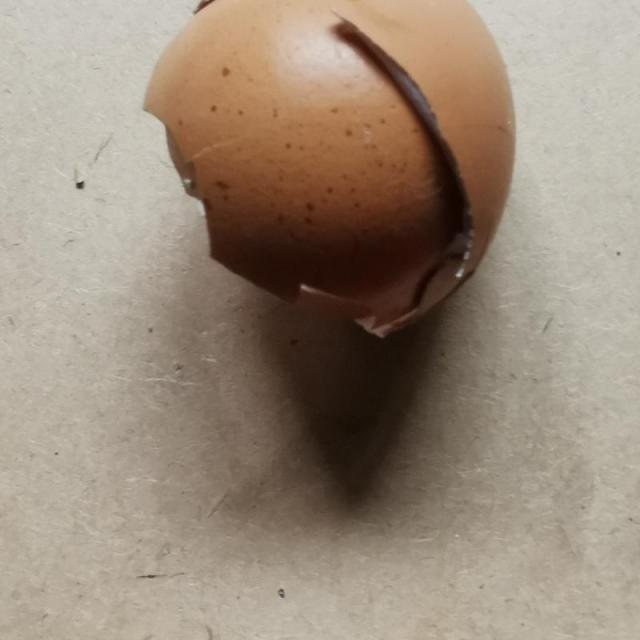egg shell: (143, 3, 521, 343)
